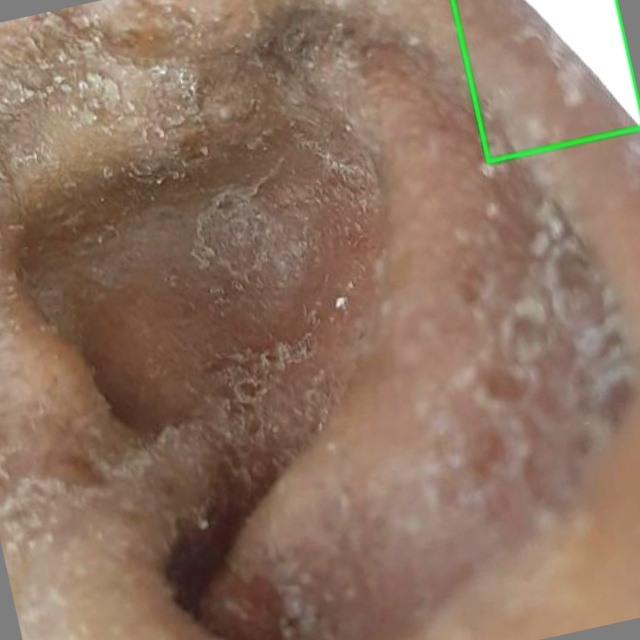Eczema: (452, 0, 639, 161)
